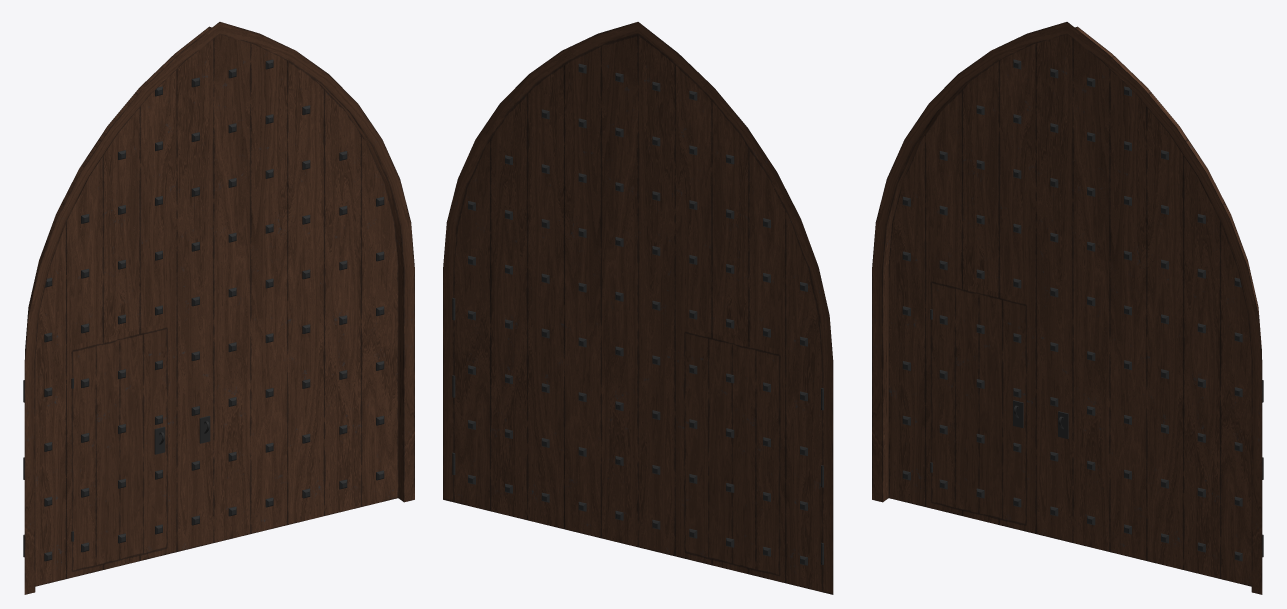
Rendered from Door_J_Frame.fbx.
3 renders of one model, left to right at view 1: azimuth 30°, elevation 25°; view 2: azimuth 150°, elevation 25°; view 3: azimuth 330°, elevation 25°, orthographic.
Visible parts, largest first — view 1: Door_J_A, Door_J_B, Door_J_C, Door_J_Frame; view 2: Door_J_A, Door_J_B, Door_J_C, Door_J_Frame; view 3: Door_J_A, Door_J_B, Door_J_C, Door_J_Frame.
Part boxes in pixels (x1,y1,x2,y2): Door_J_A: (210, 27, 398, 542); Door_J_B: (23, 26, 213, 586); Door_J_C: (71, 328, 167, 570); Door_J_Frame: (24, 22, 414, 594); Door_J_A: (452, 34, 638, 547); Door_J_B: (638, 34, 823, 592); Door_J_C: (685, 332, 779, 575); Door_J_Frame: (443, 22, 833, 594); Door_J_A: (1073, 26, 1263, 586); Door_J_B: (888, 27, 1076, 542); Door_J_C: (930, 282, 1026, 525); Door_J_Frame: (872, 22, 1262, 594).
Bounding box in the file's own units: 4.15 × 0.2224 × 5.34.
